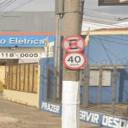speed_limit_40: (63, 53, 86, 69)
